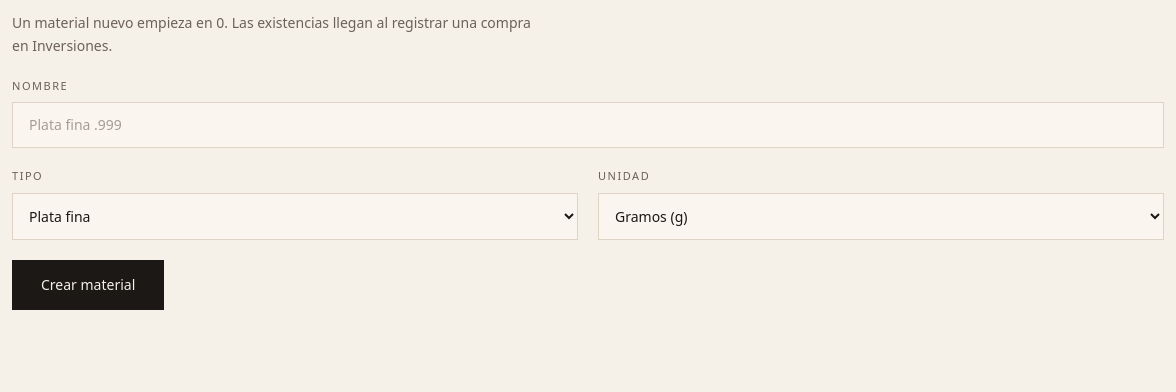
Test: CreateMaterialForm › shows the server's message and KEEPS what was typed when it fails
Type "x" into the field labelled "Nombre" at (588, 125), box [12,102,1164,148]
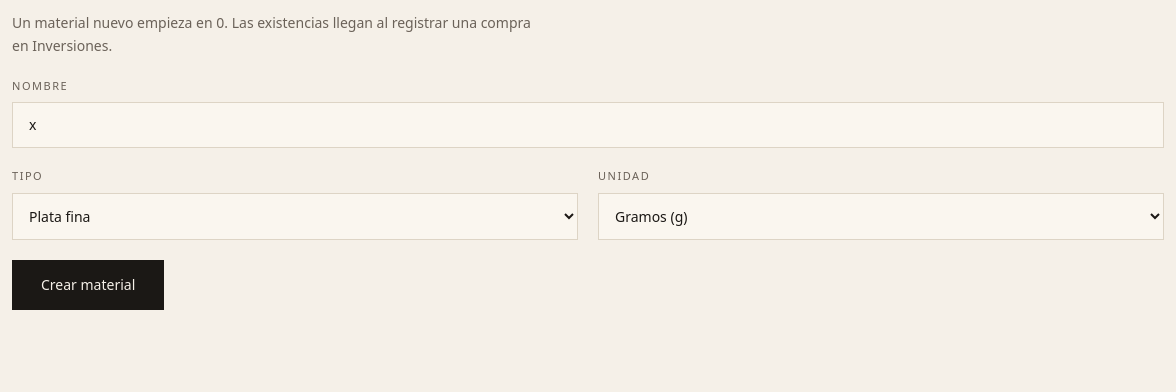
Click the button "Crear material" at (88, 284), box [12,260,164,310]
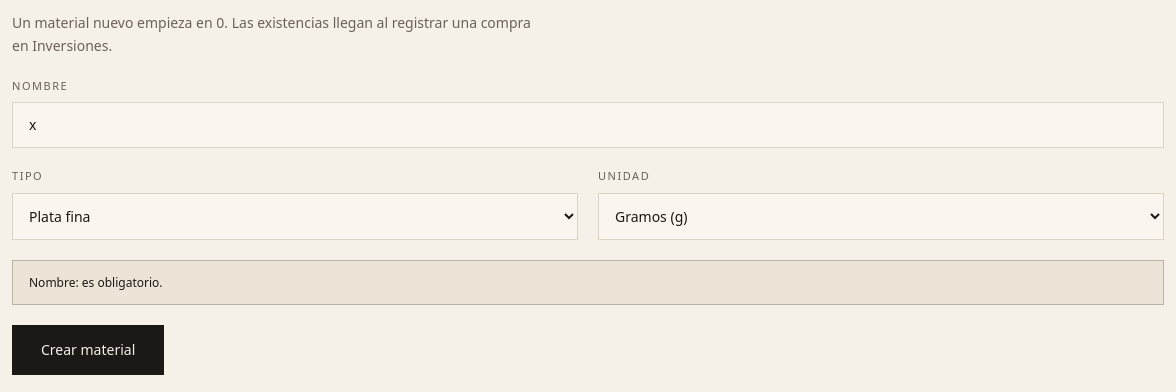
Check: the button "Crear material" is enabled, box [12,325,164,375]
Check: the message reads "Nombre: es obligatorio.", box [29,274,162,290]
